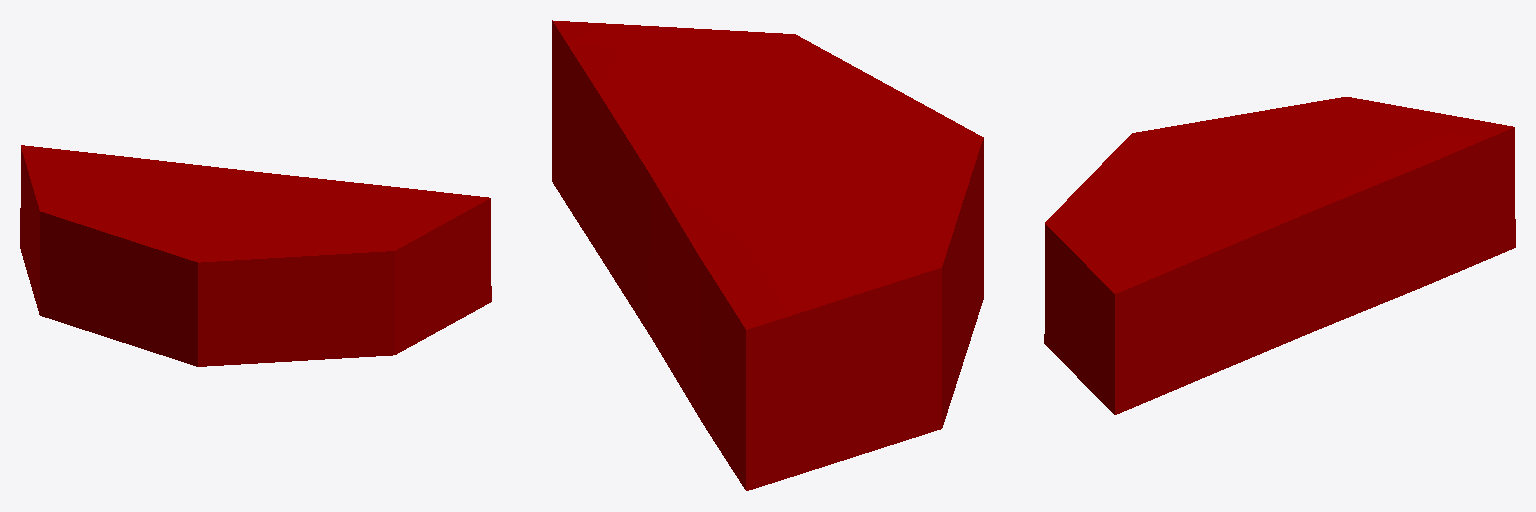
URDF robot description (semicircle_block):
<?xml version="1.0"?>
<robot name="semicircle_block">
  <link name="block">
    <visual>
      <geometry>
        <mesh filename="./config/assets/semicircle.dae"/>
      </geometry>
    </visual>

    <collision>
      <geometry>
        <mesh filename="./config/assets/semicircle.dae"/>
      </geometry>
    </collision>
  </link>

</robot>

--- Render facts (derived) ---
Views: 3 orthographic renders of the robot side by side, from view 1: azimuth 30°, elevation 25°; view 2: azimuth 150°, elevation 25°; view 3: azimuth 270°, elevation 25°.
Model semicircle_block with 1 links and 0 joints (none), rooted at block, posed all joints at 0.
Links seen in each view (by area): view 1: block; view 2: block; view 3: block.
Boxes of the visible links, x1,y1,x2,y2 form: block: [20, 145, 491, 366]; block: [552, 20, 983, 490]; block: [1044, 97, 1515, 414].
Size in the robot's own frame: 0.07 by 0.07 by 0.02 metres.
1 mesh visuals loaded from 1 distinct referenced files (1 Collada DAE).